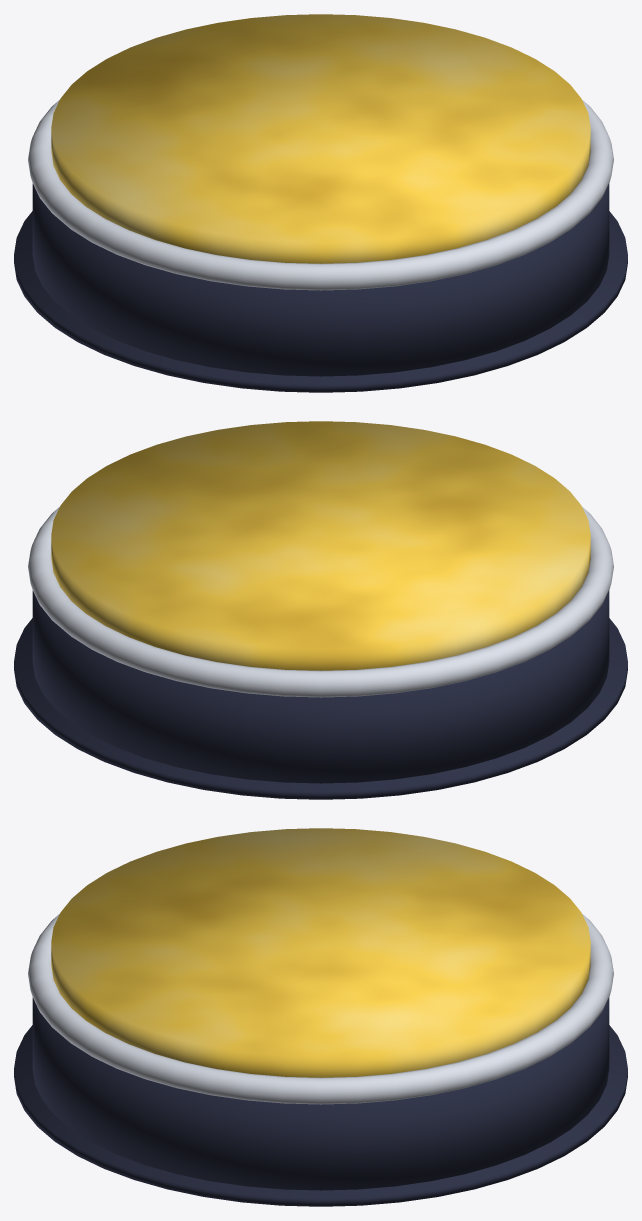
Rendered from SM_Pedestal_Gold.fbx.
3 renders of one model, top to bottom at view 1: azimuth 30°, elevation 25°; view 2: azimuth 150°, elevation 25°; view 3: azimuth 270°, elevation 25°, orthographic.
Visible parts, largest first — view 1: SM_Pedestal_Gold; view 2: SM_Pedestal_Gold; view 3: SM_Pedestal_Gold.
Part boxes in pixels (x1,y1,x2,y2): SM_Pedestal_Gold: (14,14,627,392); SM_Pedestal_Gold: (14,421,627,799); SM_Pedestal_Gold: (14,828,627,1206).
Size of what is drawn, in the model's own units: 1.32 by 0.32 by 1.32.
Materials: 1 (1 with a texture image).
